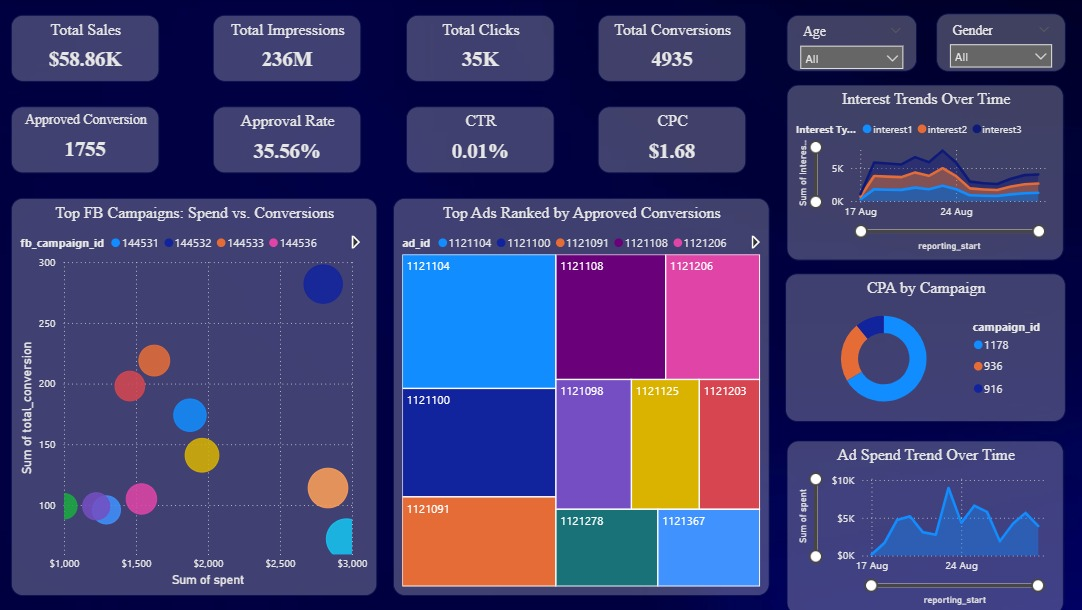

The dashboard page shown, as its layout file describes it:
{"tool":"powerbi","page":{"name":"Report","canvas":[1280,720],"ordinal":1},"visuals":[{"type":"card","title":"Total Sales","fields":{"Values":["Sum(social_media_repaired_auto (1).spent)"]},"box":[23.7,20.3,172.7,77.9],"z":0},{"type":"card","title":"Approved Conversion","fields":{"Values":["Sum(social_media_repaired_auto (1).approved_conversion)"]},"box":[23.7,127,172.7,77.9],"z":1000},{"type":"card","title":"Total Conversions","fields":{"Values":["Sum(social_media_repaired_auto (1).total_conversion)"]},"box":[707.7,20.3,172.7,77.9],"z":2000},{"type":"card","title":"Total Clicks","fields":{"Values":["Sum(social_media_repaired_auto (1).clicks)"]},"box":[484.2,20.3,172.7,77.9],"z":3000},{"type":"card","title":"Total Impressions","fields":{"Values":["Sum(social_media_repaired_auto (1).impressions)"]},"box":[259,20.3,172.7,77.9],"z":4000},{"type":"card","title":"Approval Rate","fields":{"Values":["social_media_repaired_auto (1).Approval Rate"]},"box":[259,127,172.7,77.9],"z":5000},{"type":"card","title":"CTR","fields":{"Values":["social_media_repaired_auto (1).CTR"]},"box":[484.2,127,172.7,77.9],"z":6000},{"type":"card","title":"CPC","fields":{"Values":["social_media_repaired_auto (1).CPC"]},"box":[707.7,127,172.7,77.9],"z":7000},{"type":"slicer","fields":{"Values":["social_media_repaired_auto (1).age"]},"box":[927.8,20.3,152.4,66],"z":8000},{"type":"slicer","fields":{"Values":["social_media_repaired_auto (1).gender"]},"box":[1102.2,18.6,150.7,67.7],"z":9000},{"type":"stackedAreaChart","title":"Ad Spend Trend Over Time","fields":{"Category":["social_media_repaired_auto (1).reporting_start"],"Y":["Sum(social_media_repaired_auto (1).spent)"]},"box":[927.8,516.4,323.4,203.2],"z":10000},{"type":"donutChart","title":"CPA by Campaign","fields":{"Category":["social_media_repaired_auto (1).campaign_id"],"Y":["social_media_repaired_auto (1).CPA"]},"box":[926.1,321.7,326.8,172.7],"z":11000},{"type":"scatterChart","title":"Top FB Campaigns: Spend vs. Conversions","fields":{"X":["Sum(social_media_repaired_auto (1).spent)"],"Y":["Sum(social_media_repaired_auto (1).total_conversion)"],"Size":["Sum(social_media_repaired_auto (1).clicks)"],"Series":["social_media_repaired_auto (1).fb_campaign_id"]},"box":[23.7,233.7,426.7,463.9],"z":12000},{"type":"stackedAreaChart","title":"Interest Trends Over Time","fields":{"Category":["social_media_repaired_auto (1).reporting_start"],"Y":["Sum(social_media_repaired_auto (1).Interest Score)"],"Series":["social_media_repaired_auto (1).Interest Type"]},"box":[927.8,101.6,323.4,204.9],"z":13000},{"type":"treemap","title":"Top  Ads Ranked by Approved Conversions","fields":{"Group":["social_media_repaired_auto (1).ad_id"],"Values":["Sum(social_media_repaired_auto (1).approved_conversion)"]},"box":[469,233.7,438.5,463.9],"z":14000}]}

Visuals, with their boxes in screenshot pixels (x1, y1, x2, y2), scaled from the page's 1280x720 canvas onto the 1082x610 screenshot:
"Total Sales" card: bbox=[20, 17, 166, 83]
"Approved Conversion" card: bbox=[20, 108, 166, 174]
"Total Conversions" card: bbox=[598, 17, 744, 83]
"Total Clicks" card: bbox=[409, 17, 555, 83]
"Total Impressions" card: bbox=[219, 17, 365, 83]
"Approval Rate" card: bbox=[219, 108, 365, 174]
"CTR" card: bbox=[409, 108, 555, 174]
"CPC" card: bbox=[598, 108, 744, 174]
slicer - social_media_repaired_auto (1).age: bbox=[784, 17, 913, 73]
slicer - social_media_repaired_auto (1).gender: bbox=[932, 16, 1059, 73]
"Ad Spend Trend Over Time" stackedAreaChart: bbox=[784, 438, 1058, 609]
"CPA by Campaign" donutChart: bbox=[783, 273, 1059, 419]
"Top FB Campaigns: Spend vs. Conversions" scatterChart: bbox=[20, 198, 381, 591]
"Interest Trends Over Time" stackedAreaChart: bbox=[784, 86, 1058, 260]
"Top  Ads Ranked by Approved Conversions" treemap: bbox=[396, 198, 767, 591]
